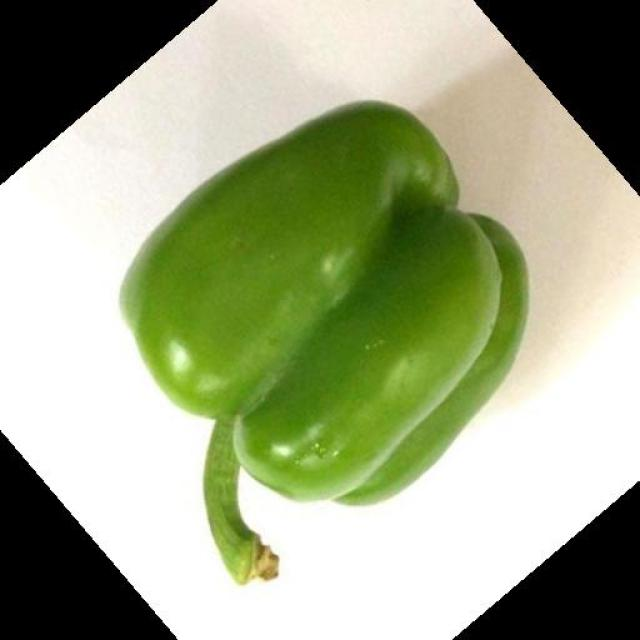Fresh_Capsicum: (94, 106, 534, 532)
